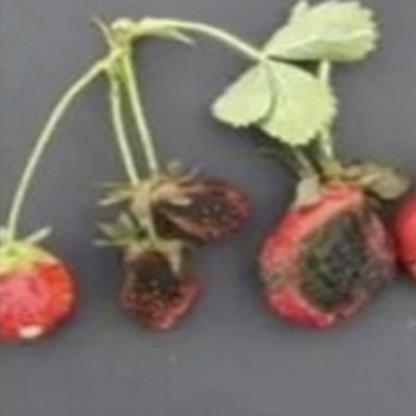Strawberry_Anthracnose_Fruit_Rot: (255, 200, 397, 319), (111, 244, 202, 334), (150, 177, 254, 246)
